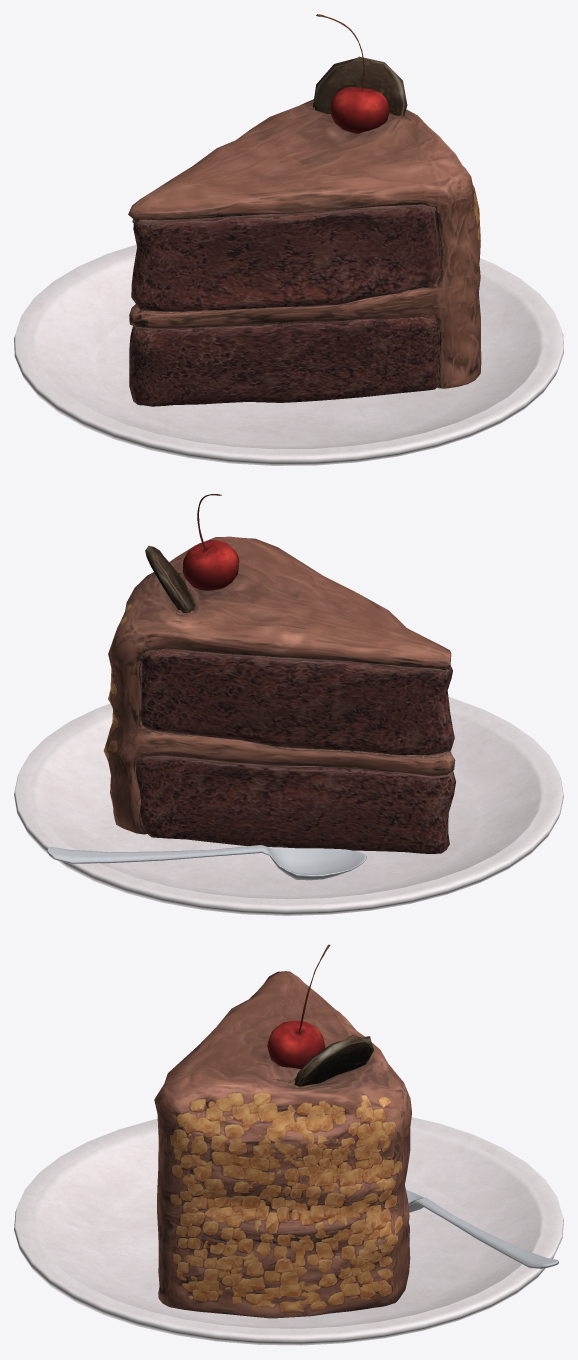
File: sliceofcake.glb
The picture shows the model from 3 angles, top to bottom: view 1: azimuth 30°, elevation 25°; view 2: azimuth 150°, elevation 25°; view 3: azimuth 270°, elevation 25°; orthographic projection.
Parts seen in each view (by area): view 1: Object_3, Object_4; view 2: Object_3, Object_4; view 3: Object_3, Object_4.
Boxes of the visible parts, x1=… form: Object_3: x1=128, y1=14, x2=481, y2=406; Object_4: x1=14, y1=244, x2=563, y2=465; Object_3: x1=103, y1=494, x2=455, y2=853; Object_4: x1=14, y1=697, x2=563, y2=915; Object_3: x1=154, y1=944, x2=411, y2=1318; Object_4: x1=14, y1=1117, x2=563, y2=1345.
Size of the model in its own units: 0.1499 by 0.1001 by 0.1499.
Materials: 2 (2 with a texture image).
